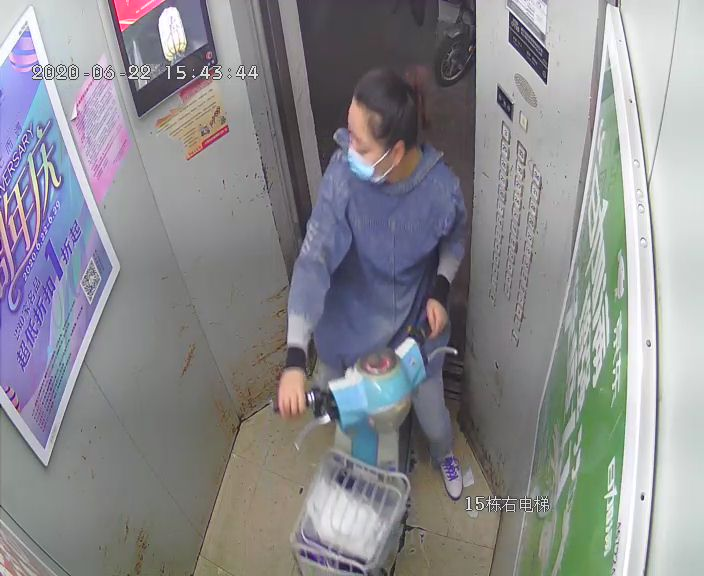Electric-bicycle: (271, 321, 458, 576)
